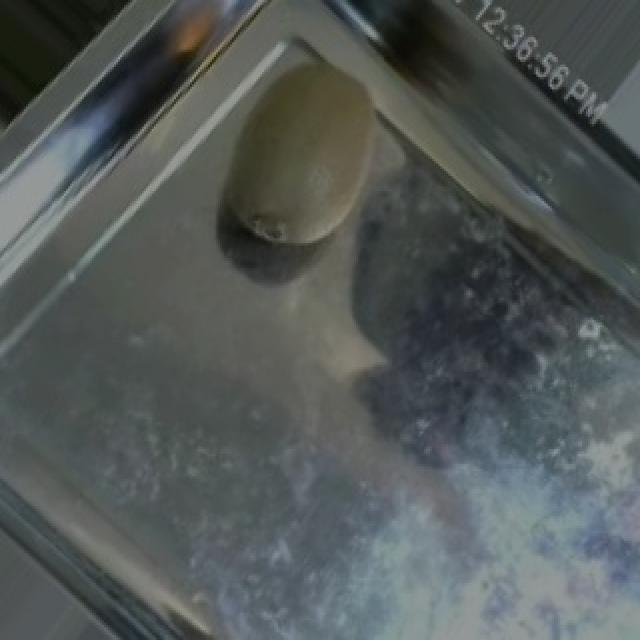Fruit: (184, 8, 440, 280)
